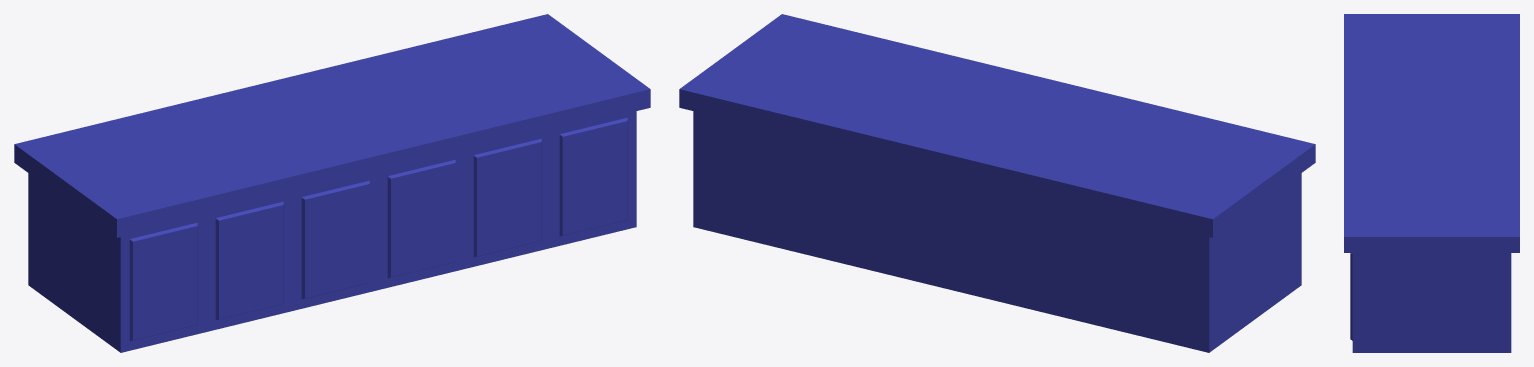
File: tableBuffet_2x1-5x6.FBX
3 views of the same model, side by side, from view 1: azimuth 30°, elevation 25°; view 2: azimuth 150°, elevation 25°; view 3: azimuth 270°, elevation 25° (orthographic). The views are drawn at different scales.
Visible parts, largest first — view 1: tableBuffet_2x1-x6; view 2: tableBuffet_2x1-x6; view 3: tableBuffet_2x1-x6.
Boxes of the visible parts, box(x1,y1,x2,y2) form: tableBuffet_2x1-x6: box(14, 14, 650, 352); tableBuffet_2x1-x6: box(679, 14, 1315, 352); tableBuffet_2x1-x6: box(1344, 14, 1519, 352).
Size of the model in its own units: 6 by 1.5 by 2.
